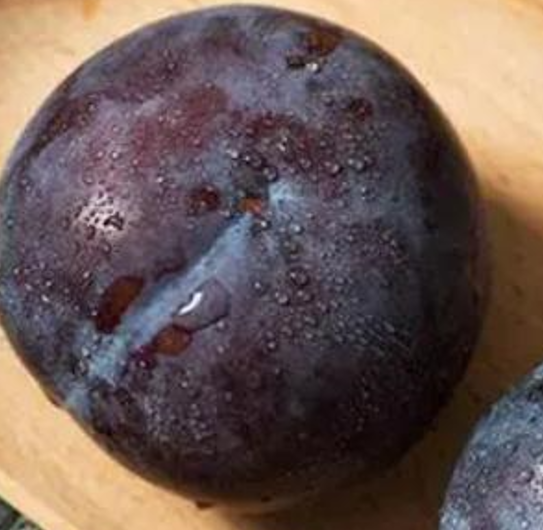plum_A: (1, 6, 492, 514)
